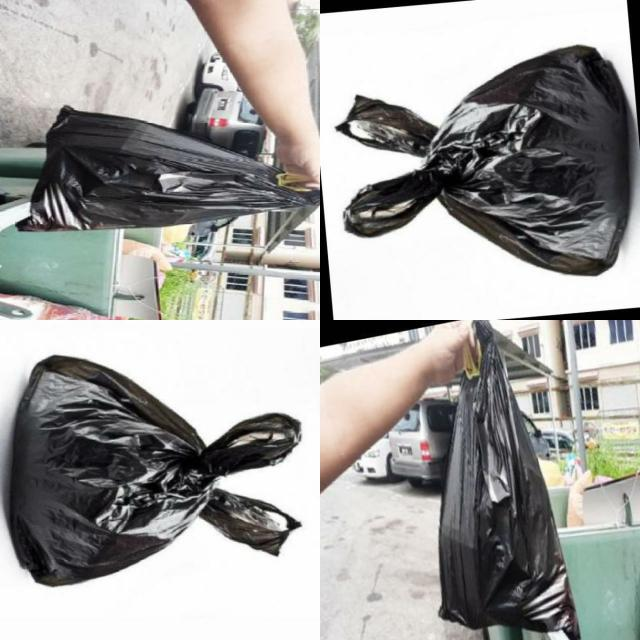Single-layer Plastic: (336, 45, 629, 275), (10, 355, 301, 586), (439, 321, 579, 640), (19, 108, 319, 230)
